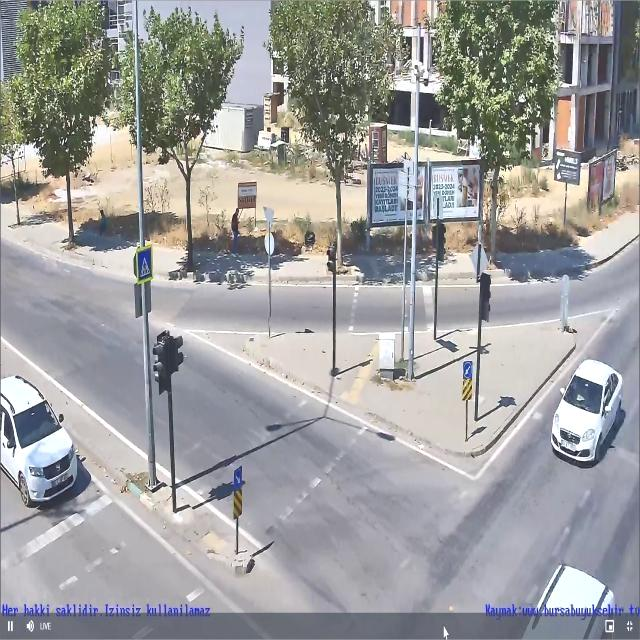Car: (0, 375, 80, 508), (550, 358, 624, 462)
